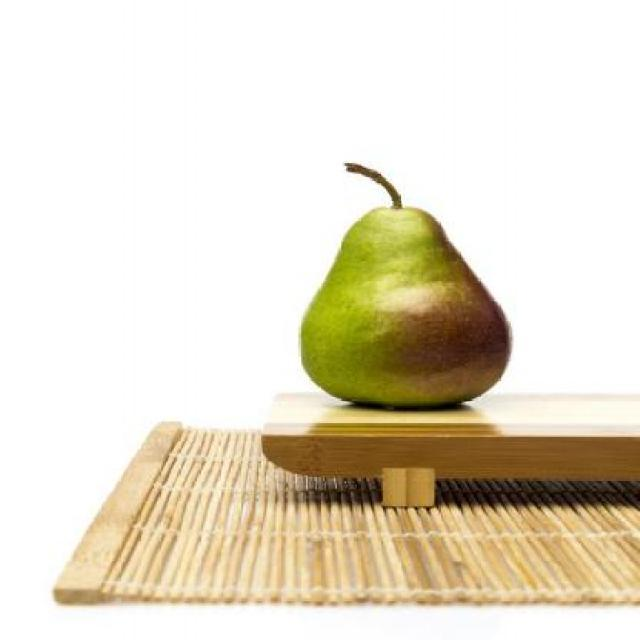Pear: (298, 160, 516, 414)
